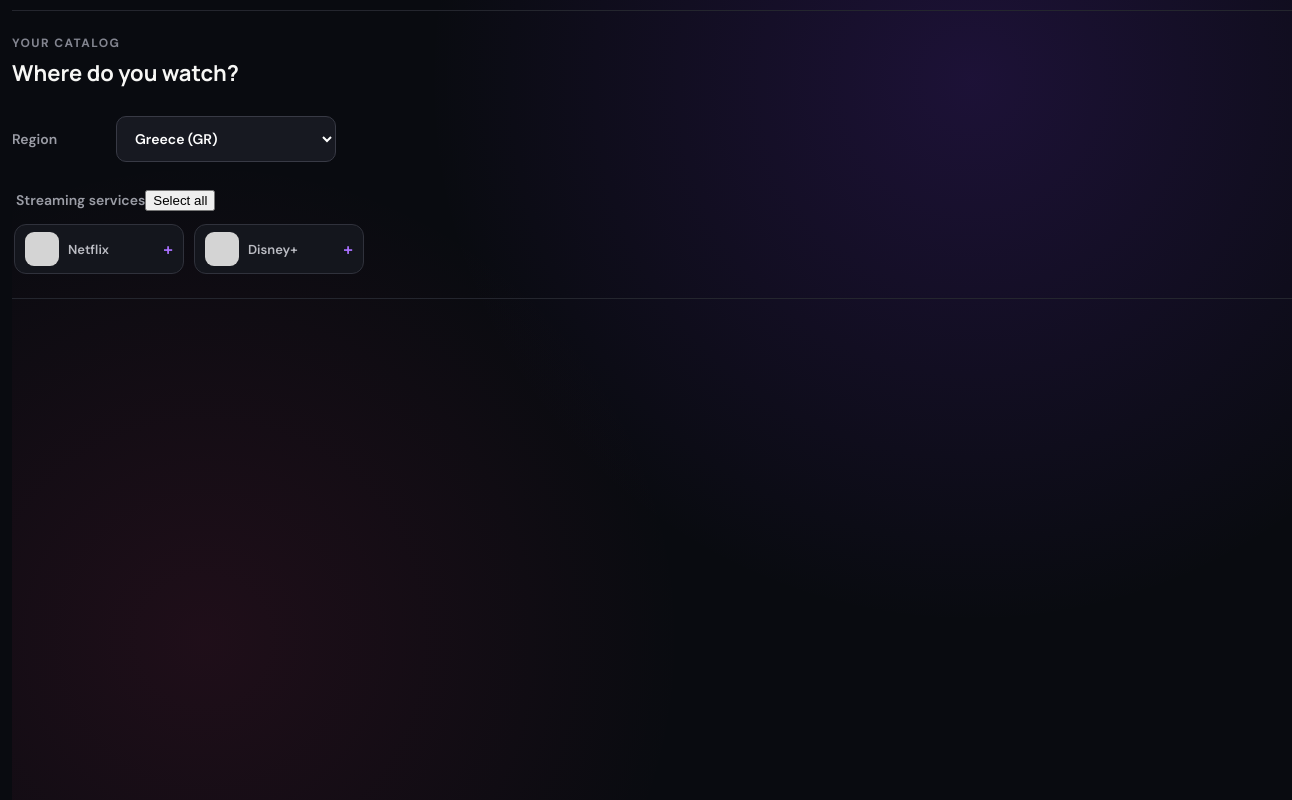
loads region-aware providers and persists the guest selection
This screenshot has width=1292, height=800.
Click the button "Netflix +".
click(99, 249)  # box x1=14 y1=224 x2=184 y2=274
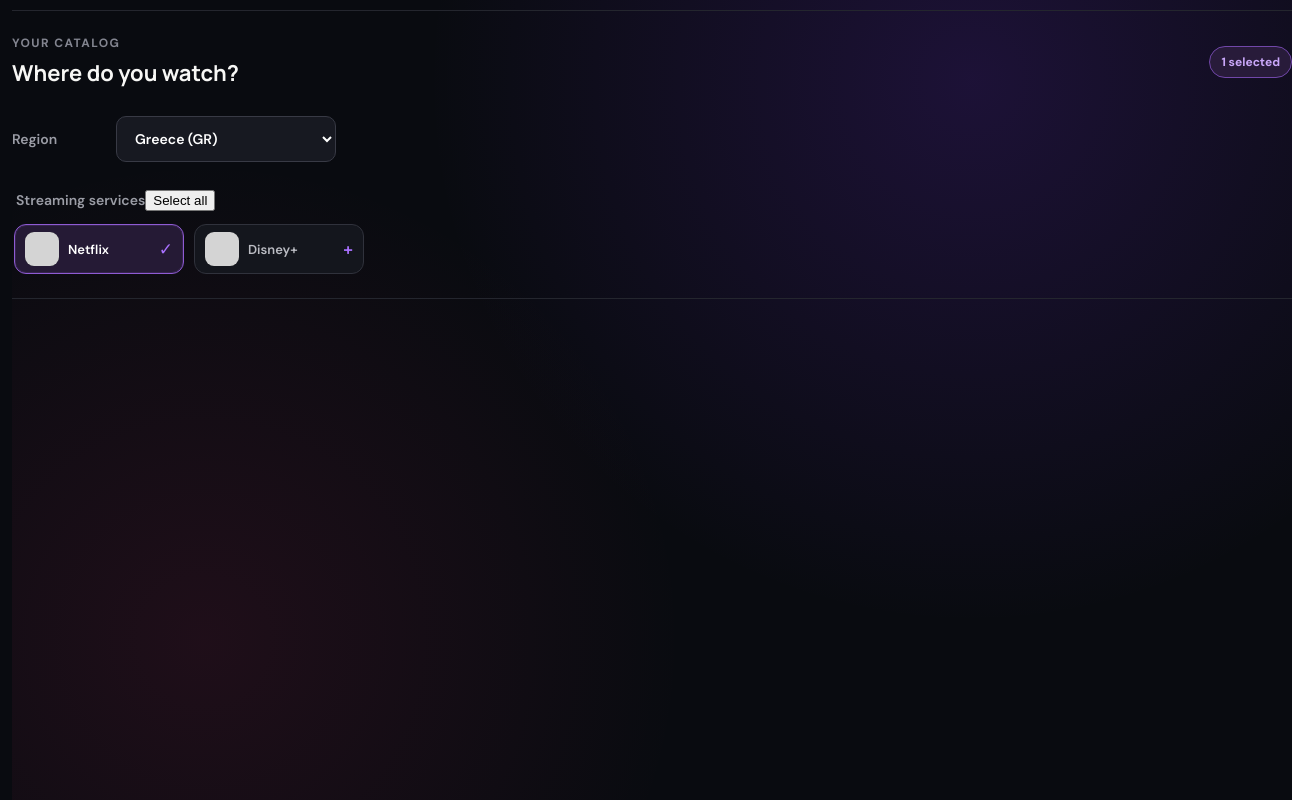
Now the text "1 selected" is shown, box x1=1209 y1=46 x2=1291 y2=78
